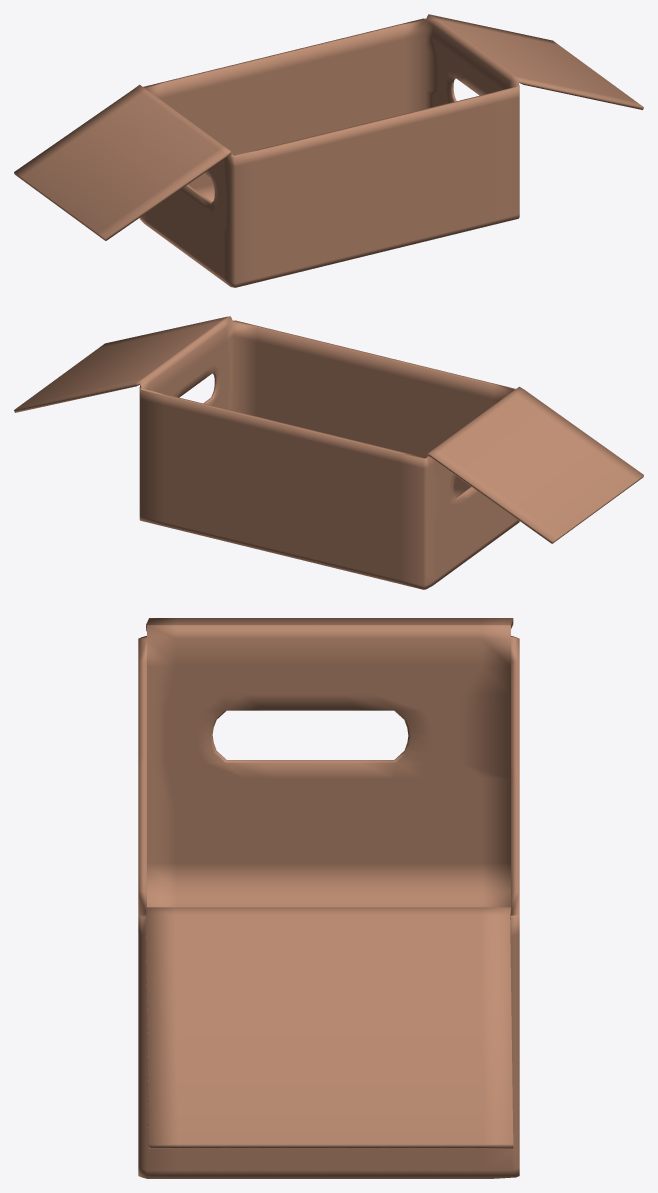
3 views of the same model, one above another, from view 1: azimuth 30°, elevation 25°; view 2: azimuth 150°, elevation 25°; view 3: azimuth 270°, elevation 25° (orthographic). The views are drawn at different scales.
Parts seen in each view (by area): view 1: MDL_Cardbox_01; view 2: MDL_Cardbox_01; view 3: MDL_Cardbox_01.
Boxes of the visible parts, x1,y1,x2,y2 form: MDL_Cardbox_01: [14, 14, 643, 287]; MDL_Cardbox_01: [14, 316, 643, 589]; MDL_Cardbox_01: [138, 618, 519, 1178].
Size of the model in its own units: 75.99 by 18.27 by 23.24.
